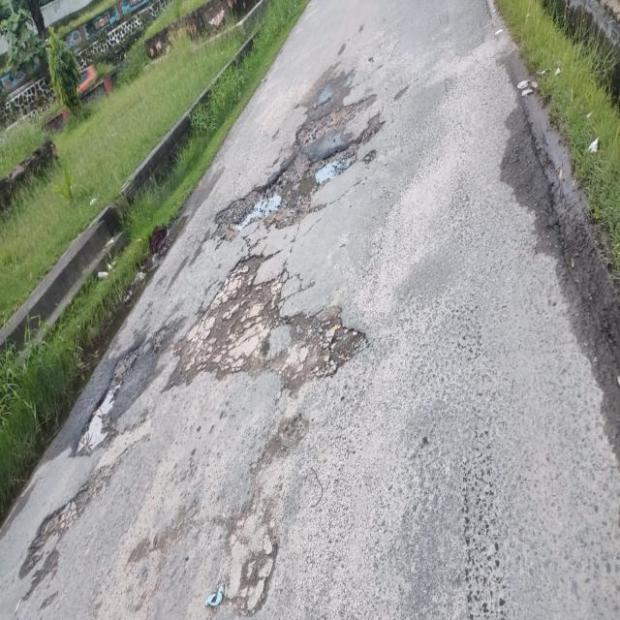lubang: (74, 250, 364, 454), (216, 70, 382, 234), (19, 471, 120, 605)
